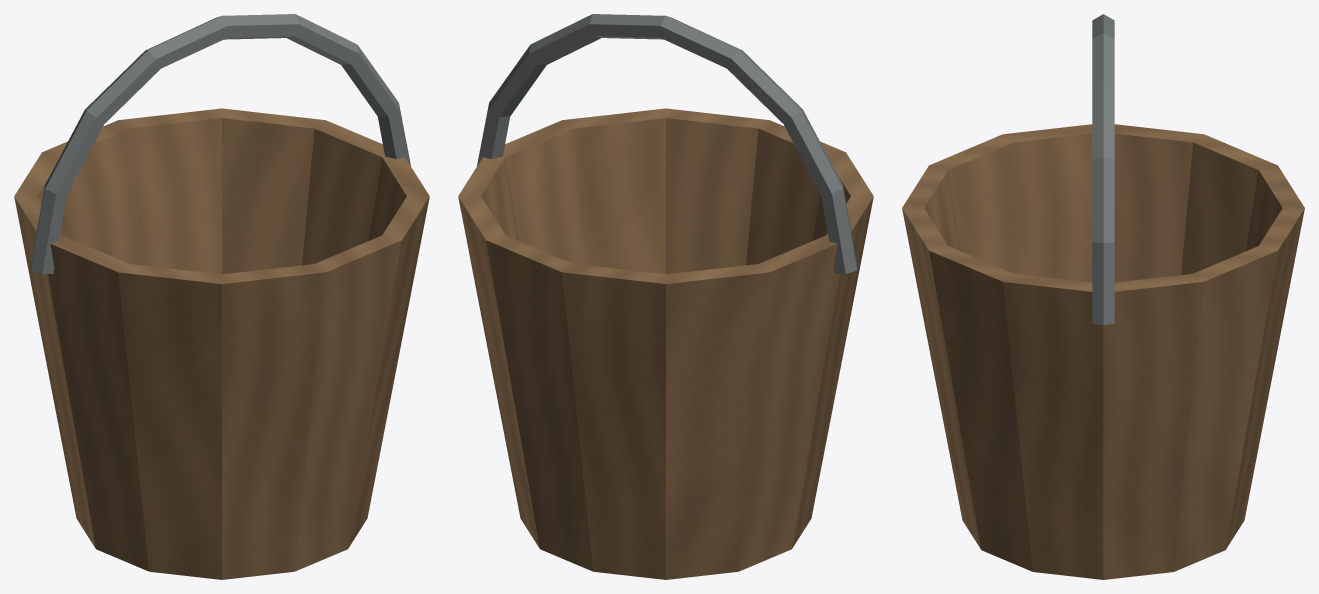
Rendered from bucket.glb.
The picture shows the model from 3 angles, left to right: view 1: azimuth 30°, elevation 25°; view 2: azimuth 150°, elevation 25°; view 3: azimuth 270°, elevation 25°; orthographic projection. The views are drawn at different scales.
Parts seen in each view (by area): view 1: bucket; view 2: bucket; view 3: bucket.
Part boxes in pixels (left/top/right/bottom): bucket: left=14, top=14, right=429, bottom=579; bucket: left=458, top=14, right=873, bottom=579; bucket: left=902, top=14, right=1304, bottom=579.
Bounding box in the file's own units: 0.4036 × 0.507 × 0.38.
Materials: 2 (1 with a texture image).
